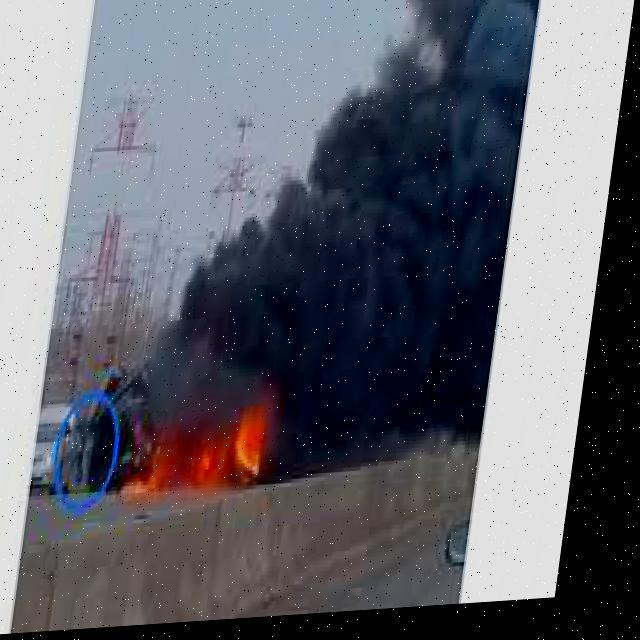Fire: (130, 382, 288, 512)
